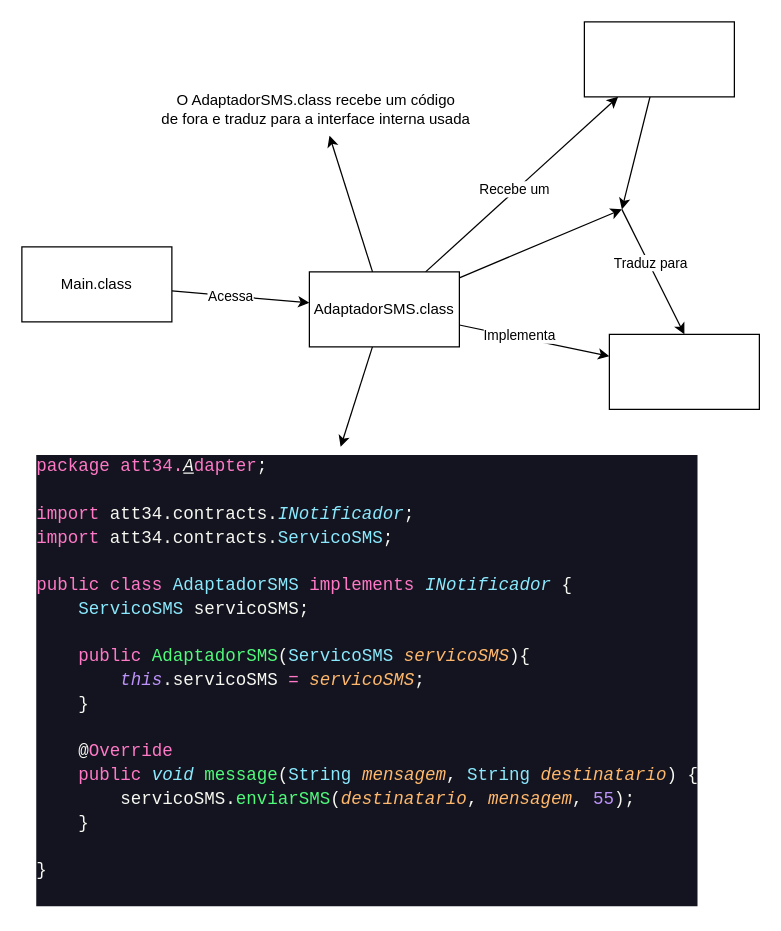
This 781x931 diagram has some shape labels left out. Each missing label, with the centre of its shape:
INotificador: [683,371]
ServicoSMS: [658,59]
